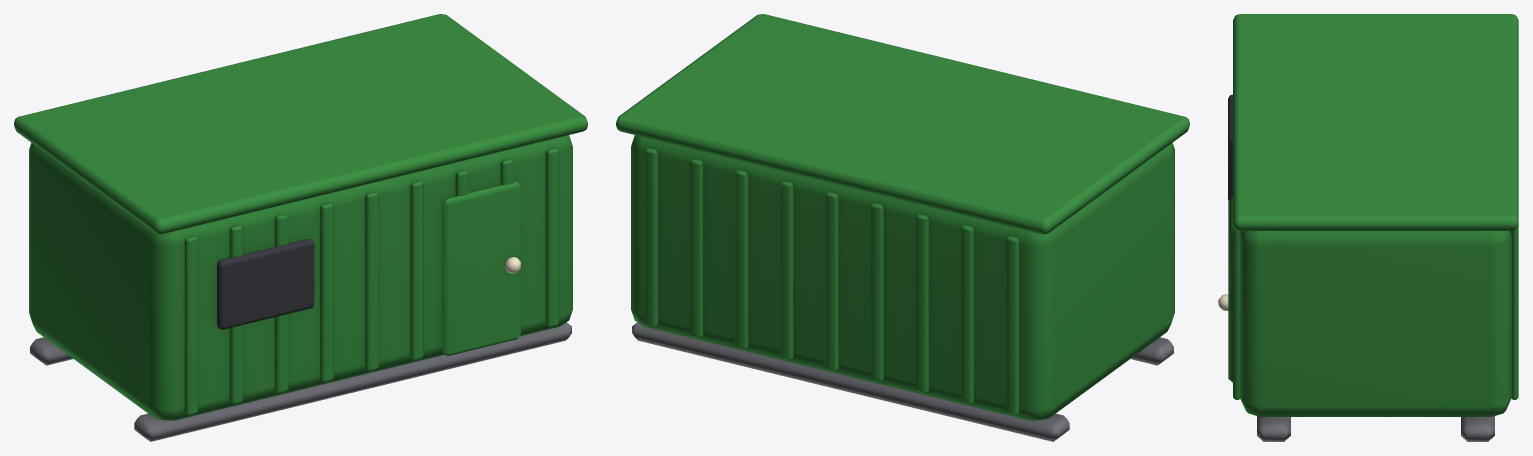
Rendered from site-cabin.fbx.
The picture shows the model from 3 angles, left to right: view 1: azimuth 30°, elevation 25°; view 2: azimuth 150°, elevation 25°; view 3: azimuth 270°, elevation 25°; orthographic projection. The views are drawn at different scales.
Visible parts, largest first — view 1: site-cabin; view 2: site-cabin; view 3: site-cabin.
Boxes of the visible parts, <box> form: site-cabin: <box>14,14,587,441</box>; site-cabin: <box>616,14,1189,441</box>; site-cabin: <box>1218,14,1518,441</box>.
Size of the model in its own units: 1440 by 740 by 884.
Materials: 1 (1 with a texture image).
